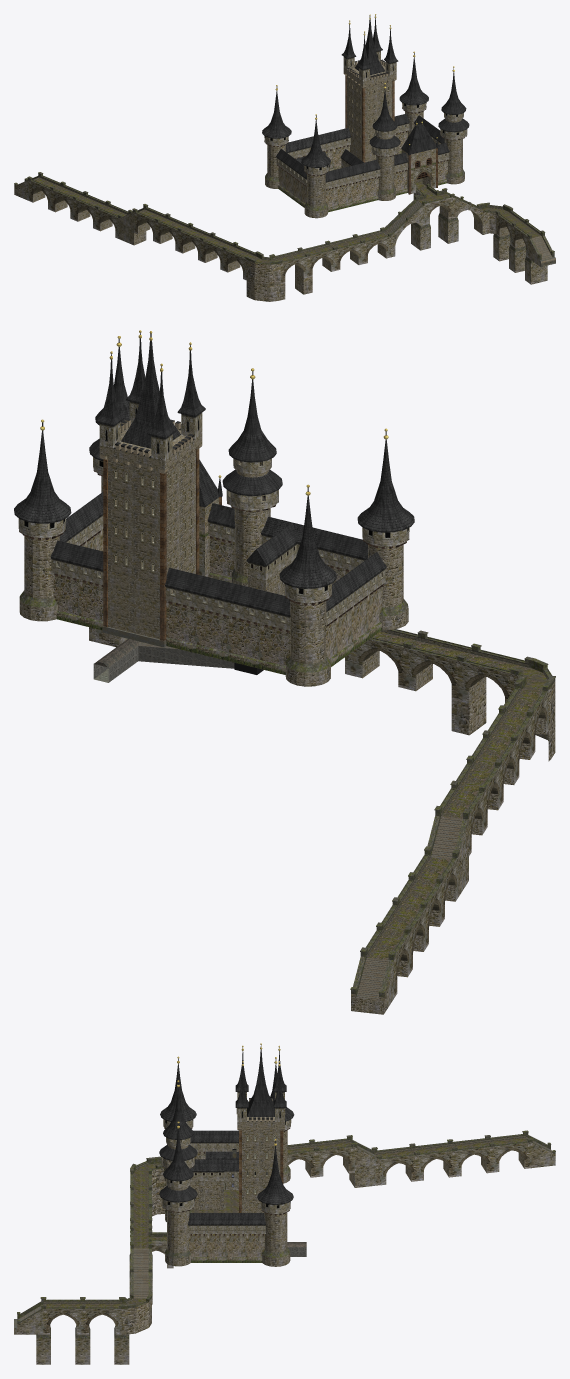
File: castle18.dae
The picture shows the model from 3 angles, top to bottom: view 1: azimuth 30°, elevation 25°; view 2: azimuth 150°, elevation 25°; view 3: azimuth 270°, elevation 25°; orthographic projection. The views are drawn at different scales.
Visible parts, largest first — view 1: cube8_sep26-0; view 2: cube8_sep26-0; view 3: cube8_sep26-0.
Boxes of the visible parts, <box> form: cube8_sep26-0: <box>14,14,555,301</box>; cube8_sep26-0: <box>14,330,555,1014</box>; cube8_sep26-0: <box>14,1043,555,1364</box>.
Bounding box in the file's own units: 19055 × 12364 × 22504.
